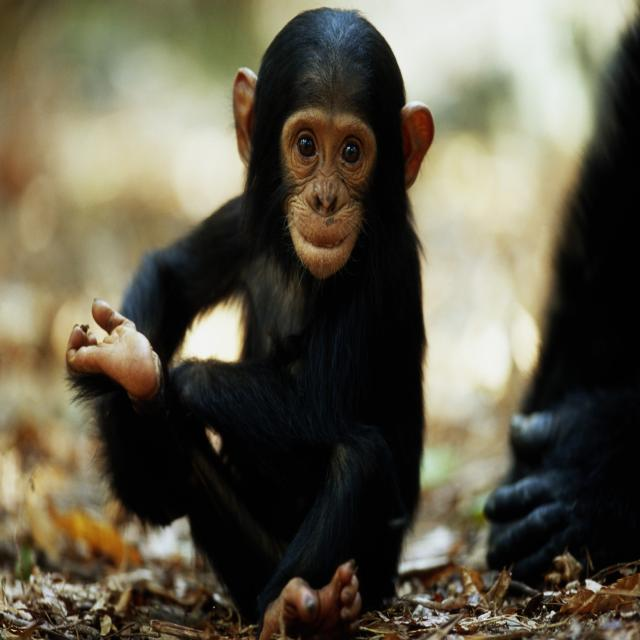Chimpanzee: (78, 20, 422, 640)
